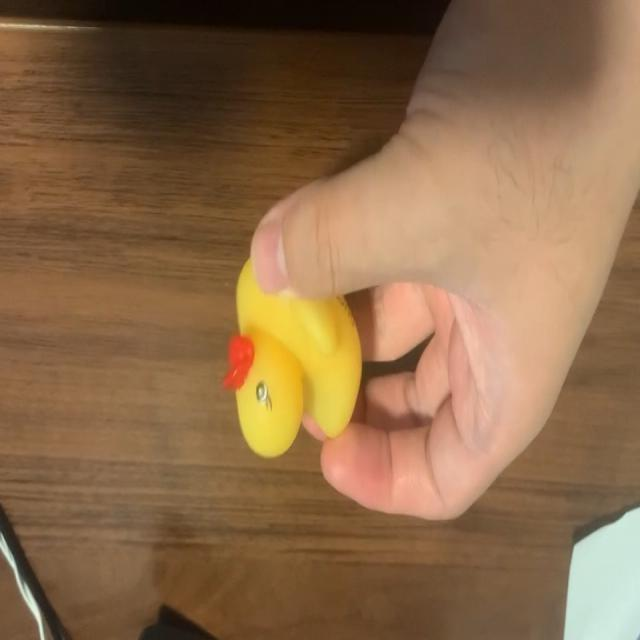rubber-duck: (222, 259, 360, 455)
